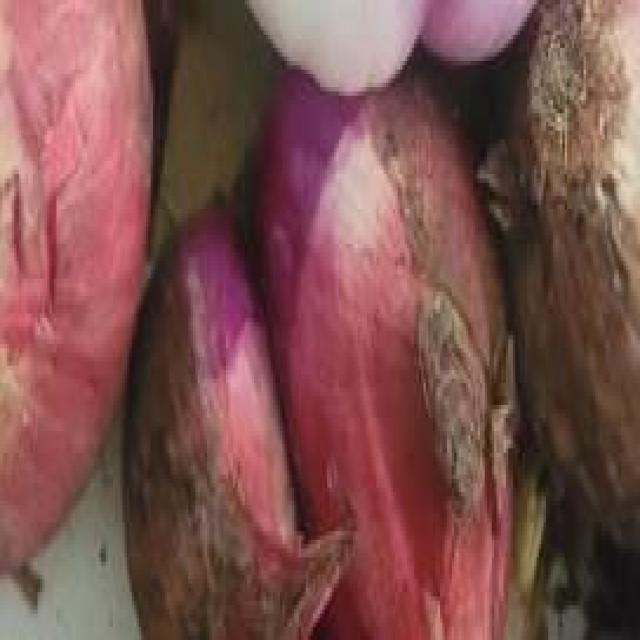Onion: (121, 69, 523, 640)
